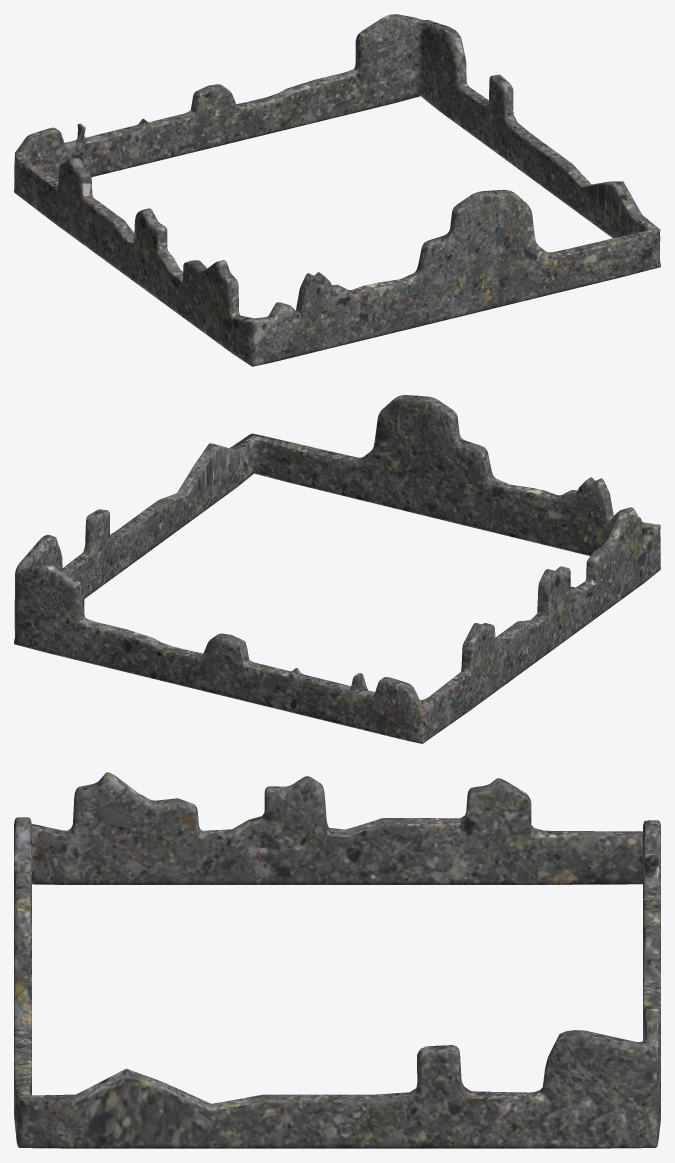
File: SurfaceLayer_Walls.fbx
3 renders of one model, top to bottom at view 1: azimuth 30°, elevation 25°; view 2: azimuth 150°, elevation 25°; view 3: azimuth 270°, elevation 25°, orthographic. The views are drawn at different scales.
Parts seen in each view (by area): view 1: HighPolyWalls; view 2: HighPolyWalls; view 3: HighPolyWalls.
Part boxes in pixels (x1,y1,x2,y2): HighPolyWalls: (14, 14, 660, 366); HighPolyWalls: (14, 395, 660, 743); HighPolyWalls: (14, 772, 660, 1148).
Size of the model in its own units: 11020 by 2951 by 11113.
